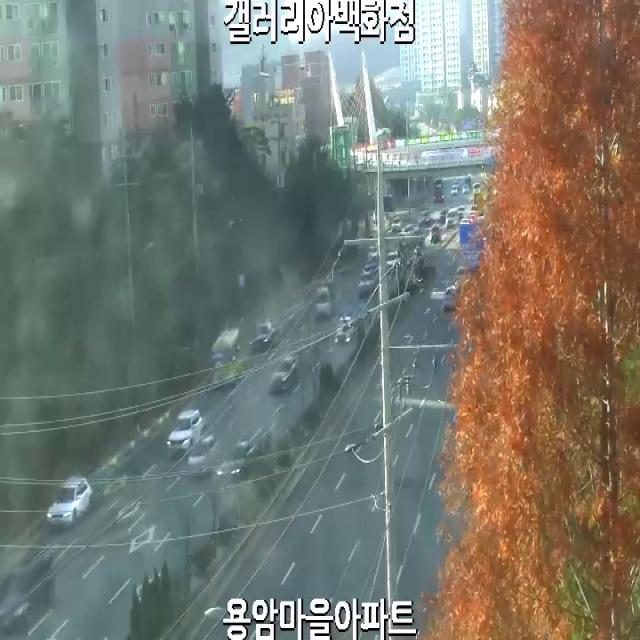Car: (0, 546, 55, 635), (46, 476, 93, 528), (230, 424, 272, 480), (166, 408, 209, 456), (212, 328, 241, 382), (188, 435, 218, 478), (268, 353, 298, 395), (249, 318, 277, 354), (431, 286, 457, 308)
Truck: (317, 271, 348, 315), (334, 311, 363, 344)
